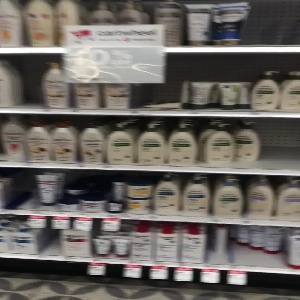void: (208, 223, 280, 271), (130, 53, 180, 105), (258, 116, 300, 170), (9, 53, 43, 110), (6, 169, 39, 211), (37, 220, 61, 255)
